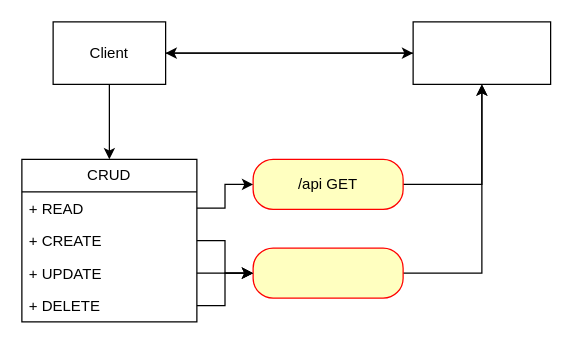
The diagram is 573 pixels wide and 348 high, and some of its shapes have lost their labels. Each missing label, with the centre of its shape:
"/api POST" belongs at [327,272].
"Server" belongs at [481,52].
